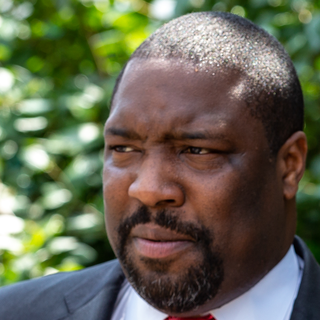eye: (174, 141, 223, 163), (100, 139, 143, 161)
